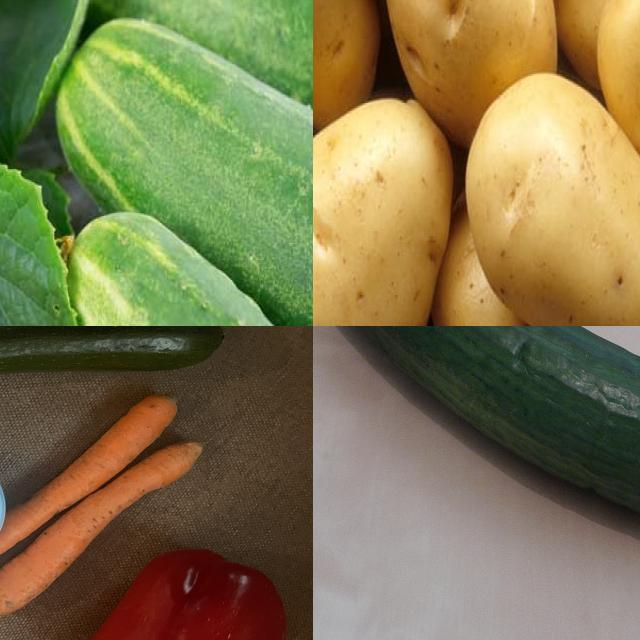bell_pepper: (95, 540, 298, 640)
carrot: (1, 388, 210, 603)
cucumber: (314, 327, 640, 585), (57, 12, 314, 327), (89, 1, 314, 188), (61, 205, 314, 327)
potato: (467, 76, 640, 327), (314, 99, 454, 327), (382, 1, 558, 133)
zucchini: (1, 327, 231, 422)
